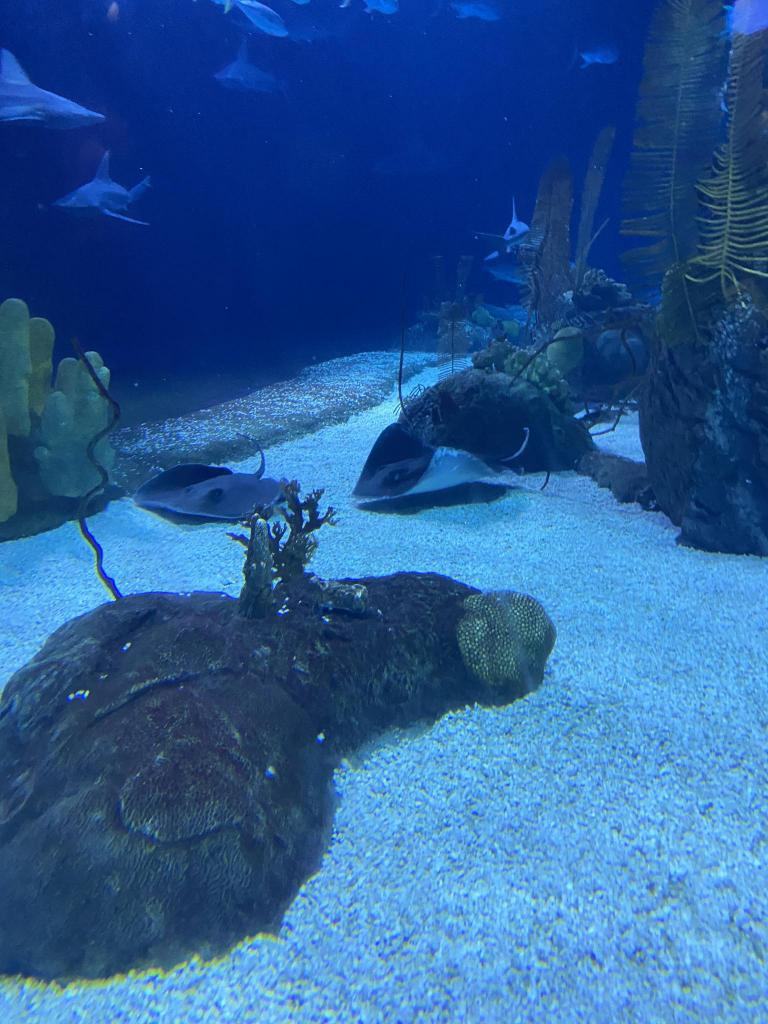fish: (228, 0, 296, 38), (438, 0, 506, 31), (570, 41, 630, 67), (346, 0, 400, 22)
shark: (0, 65, 109, 132), (42, 178, 166, 220), (203, 48, 297, 98), (471, 223, 547, 279)
stingray: (339, 426, 529, 514), (133, 446, 283, 520)
